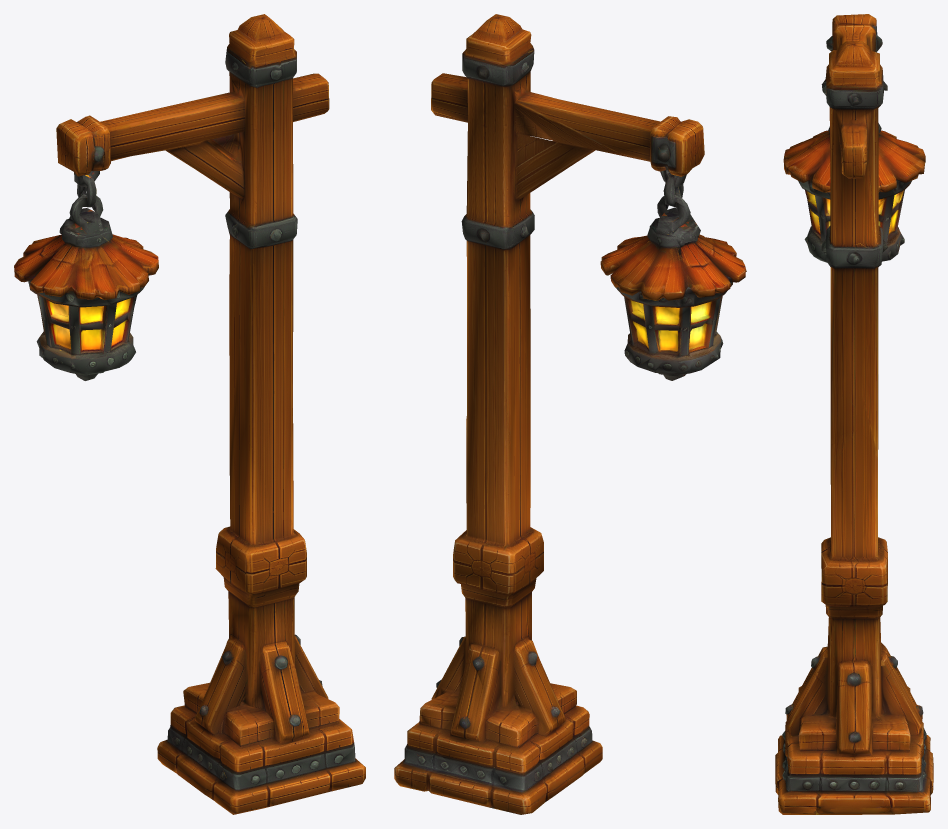
File: Meshy_AI_Wooden_Lantern_Street_0512182212_texture.fbx
The picture shows the model from 3 angles, left to right: view 1: azimuth 30°, elevation 25°; view 2: azimuth 150°, elevation 25°; view 3: azimuth 270°, elevation 25°; orthographic projection. The views are drawn at different scales.
Parts seen in each view (by area): view 1: Mesh_0; view 2: Mesh_0; view 3: Mesh_0.
Part boxes in pixels (<box>): Mesh_0: <box>14,14,365,814</box>; Mesh_0: <box>394,14,746,814</box>; Mesh_0: <box>775,14,933,814</box>.
Bounding box in the file's own units: 81.23 × 191 × 37.06.
1 material, 1 textured.
